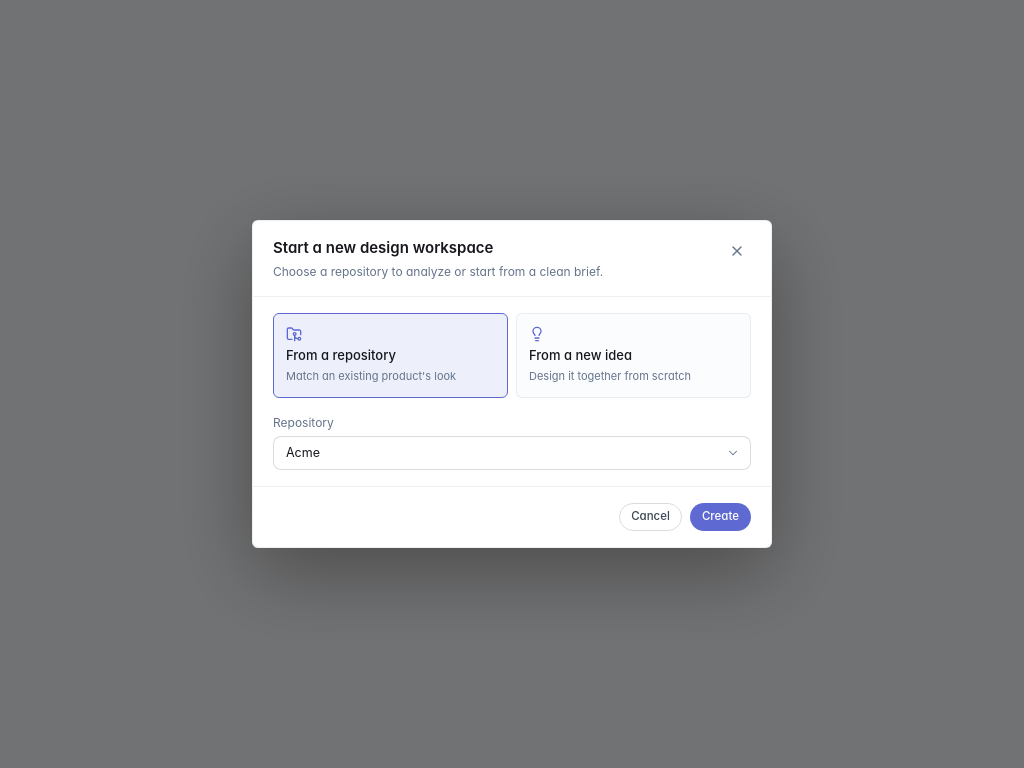
Test: DesignStudioCreateDialog smoke › shows error text when creation fails
The image size is (1024, 768).
Expected: the button "Create" is shown, [690,503,751,531]
// Switch to greenfield and type so Create is enabled
Click the text "From a new idea": [580, 356] box [529,346,632,365]
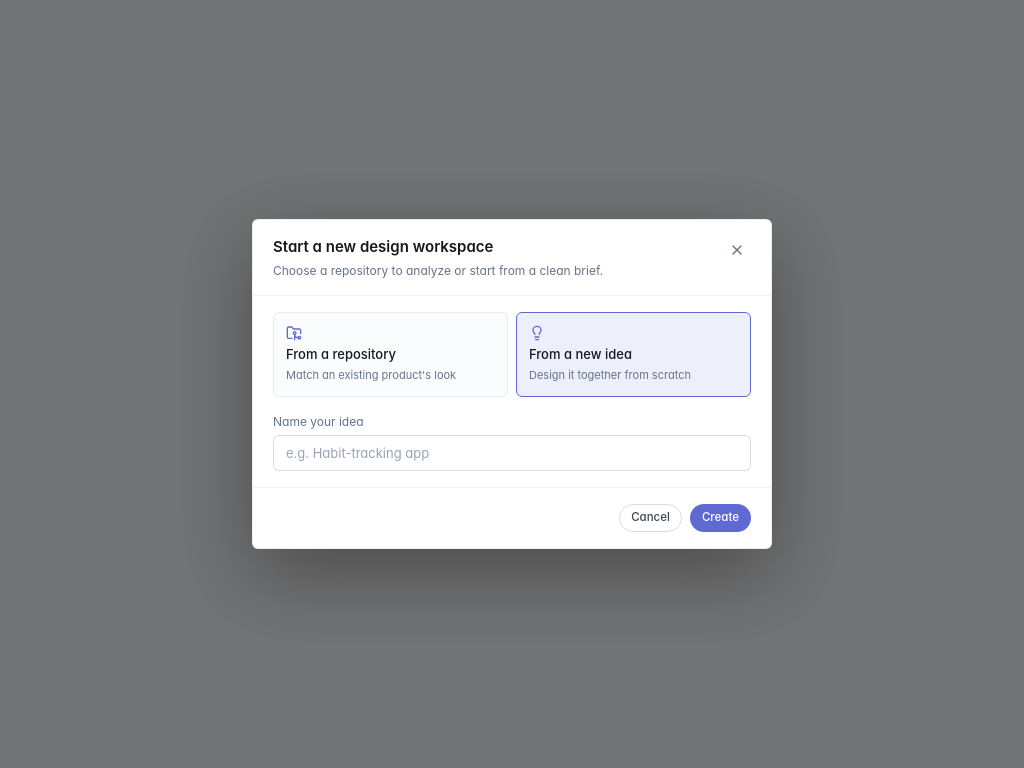
In the field with placeholder "e.g. Habit-tracking app": [512, 453] box [273,435,751,471], type "Test"
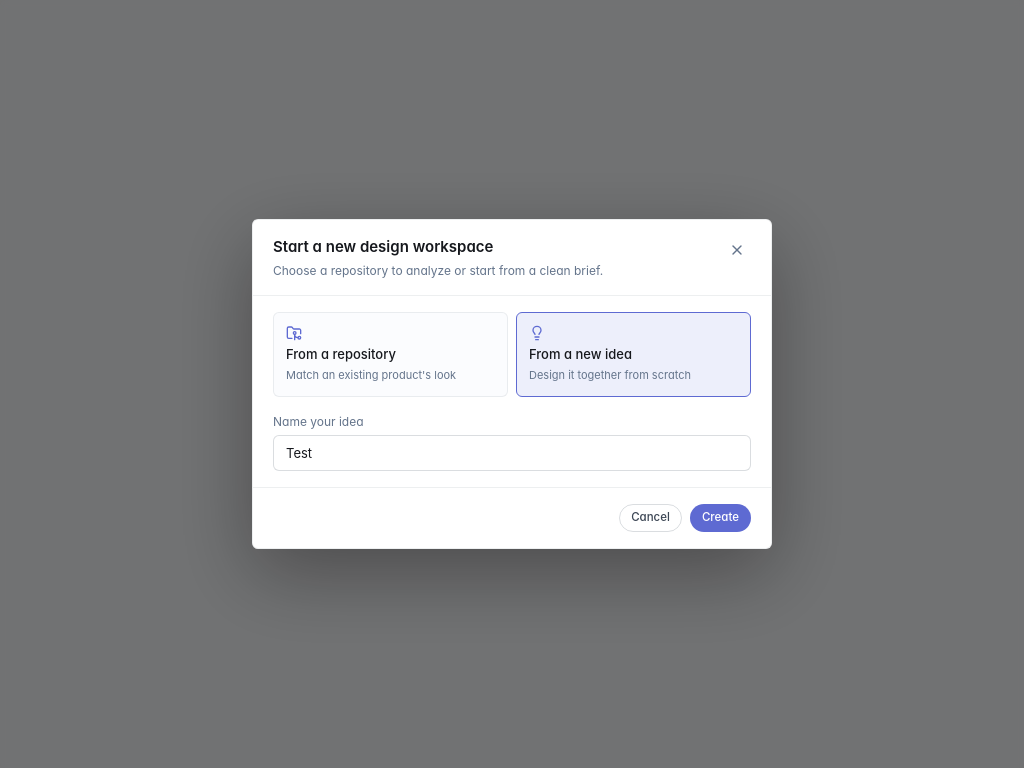
Click the button "Create": [720, 518] box [690,504,751,532]
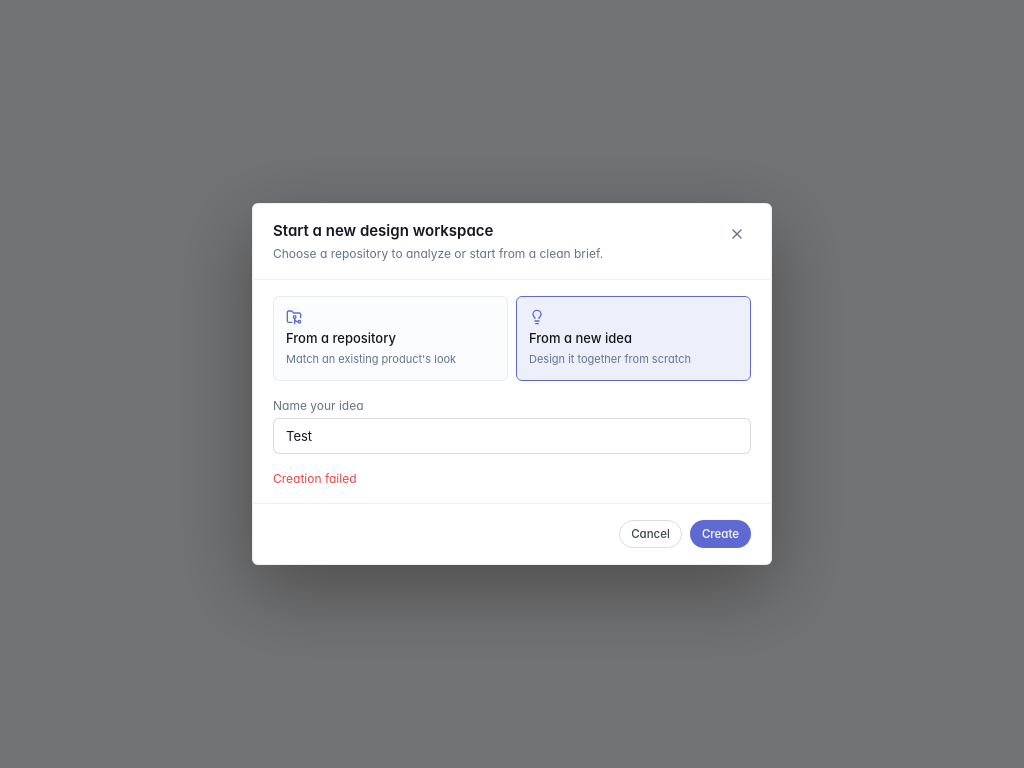
Expected: the text "Creation failed" is shown, [273,471,356,486]
